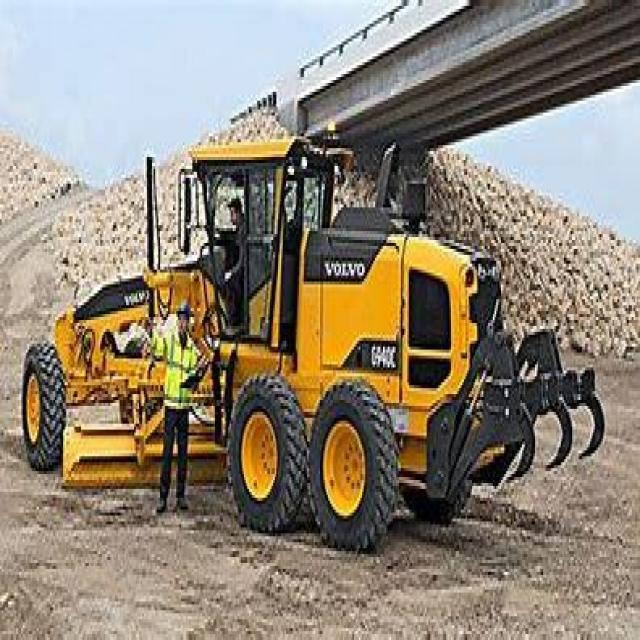Grader: (19, 124, 560, 557)
